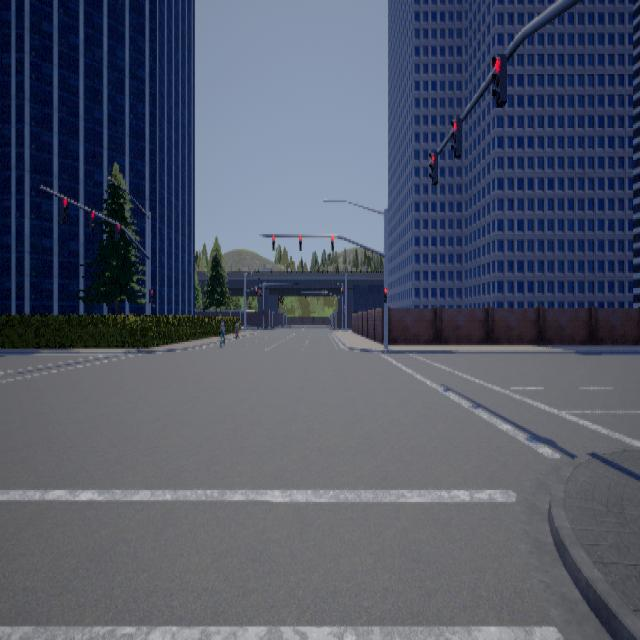bike: (216, 316, 226, 348)
red_light: (491, 52, 506, 106), (450, 116, 461, 157), (428, 150, 437, 183), (59, 195, 67, 219), (88, 209, 94, 231), (114, 222, 120, 241), (331, 234, 334, 250), (299, 235, 302, 250), (272, 234, 274, 250), (384, 288, 386, 302)
